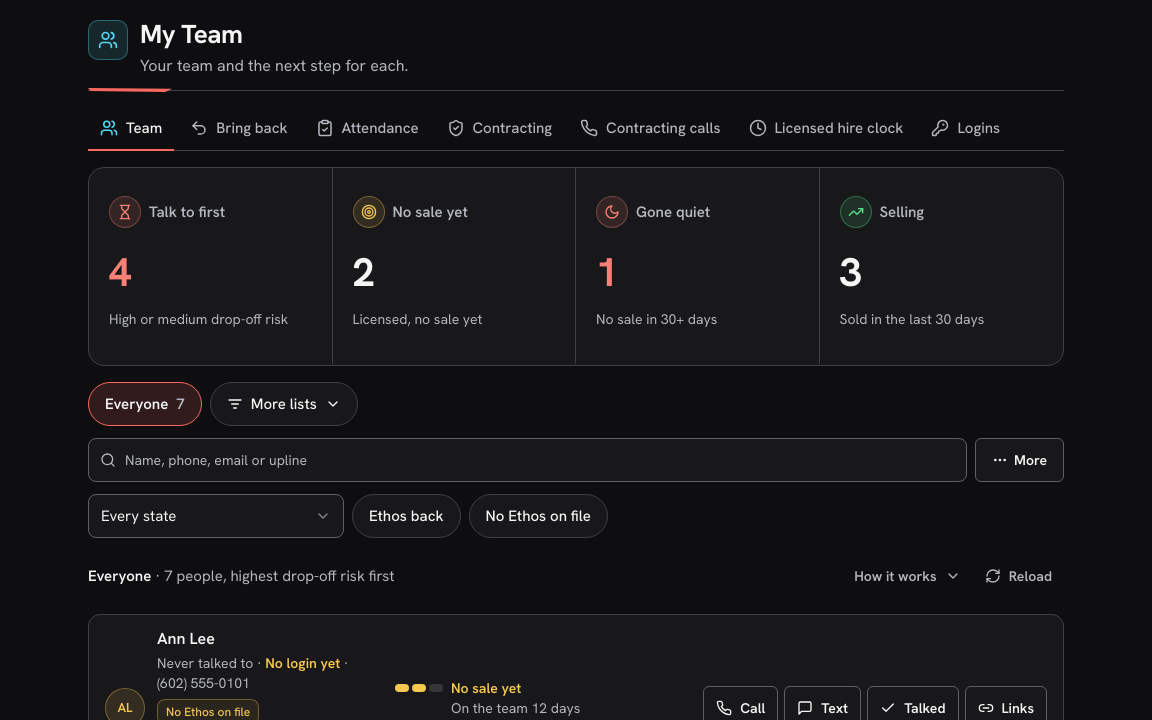
Test: My Team: four numbers, one list › the Ethos chips narrow to who has it back and who has nothing on file, and live in the URL
The width and height of the screenshot is (1152, 720).
Expected: the text "Ann Lee" is shown, [157, 627, 215, 651]
What coordinates should you click on to do the following:
click the button "No Ethos on file"
I would click on:
 (538, 516)
Its box is [468, 494, 608, 538].
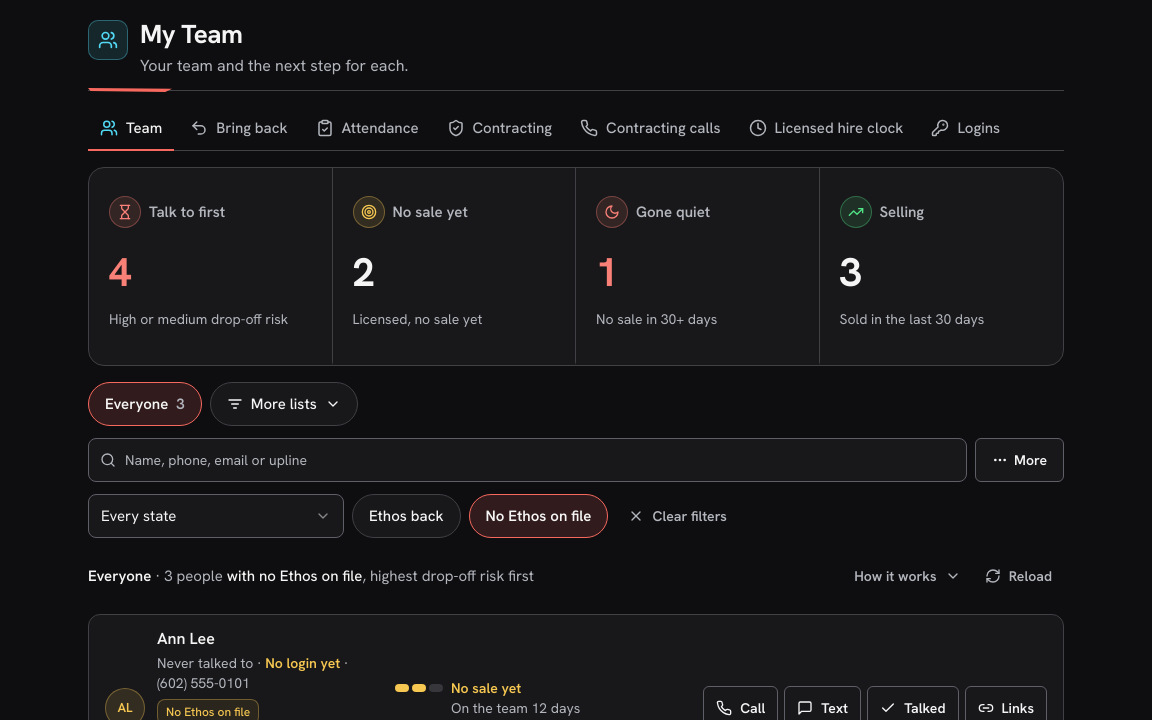
What coordinates should you click on to do the following:
click the button "Ethos back"
I would click on:
 (406, 516)
Its box is [352, 494, 460, 538].
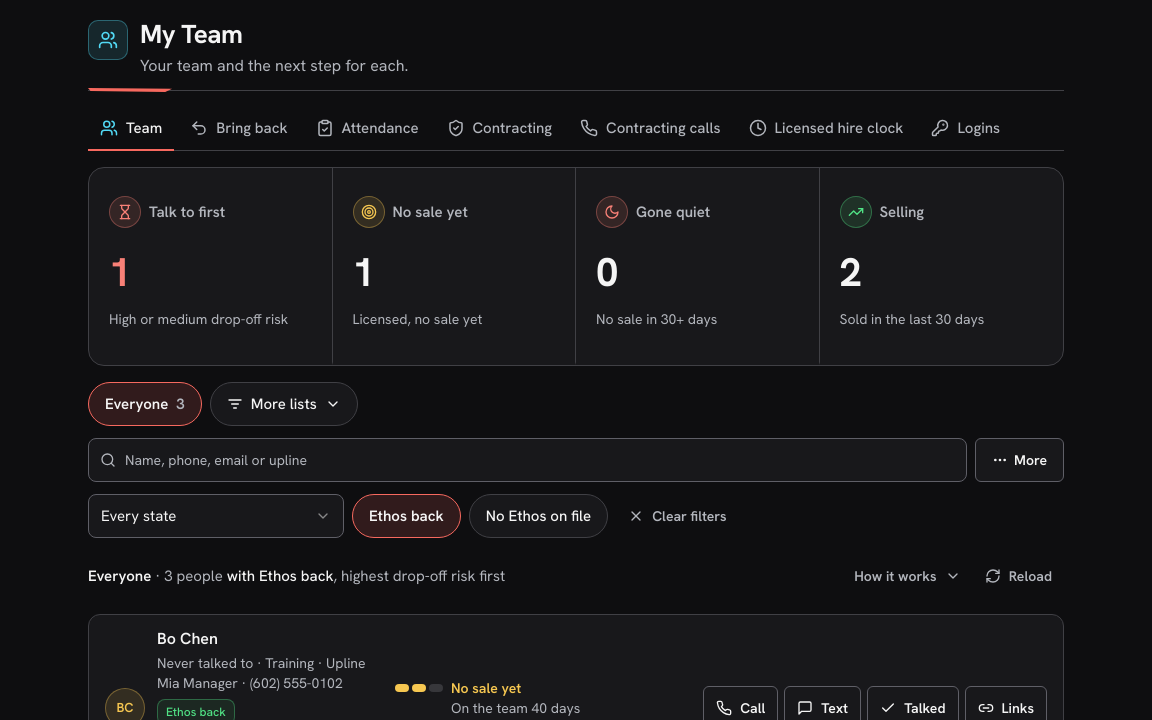
Now the text "with Ethos back" is shown, box [223, 566, 334, 586]
